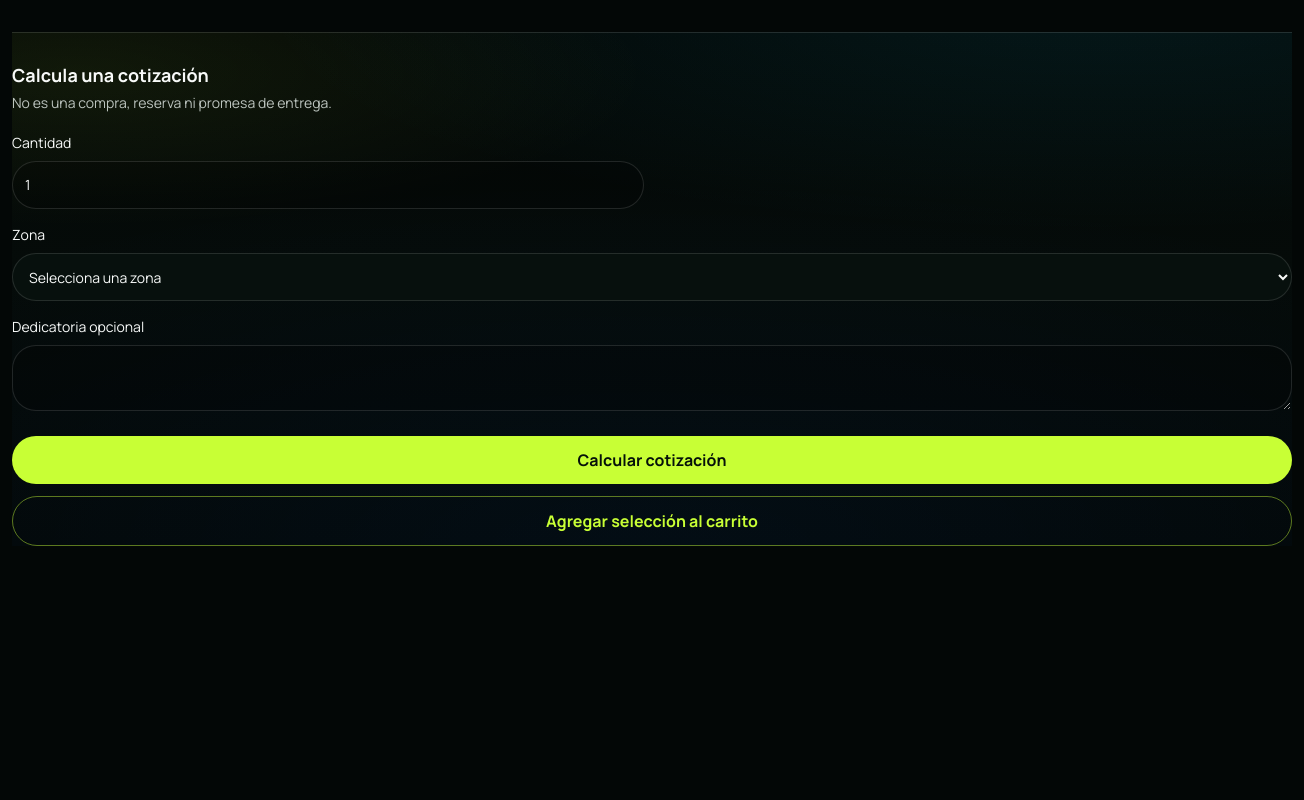
Test: quote calculator › does not present an unavailable quote as validated
This screenshot has width=1304, height=800.
Click the button "Calcular cotización" at (652, 460), box left=12, top=436, right=1292, bottom=484
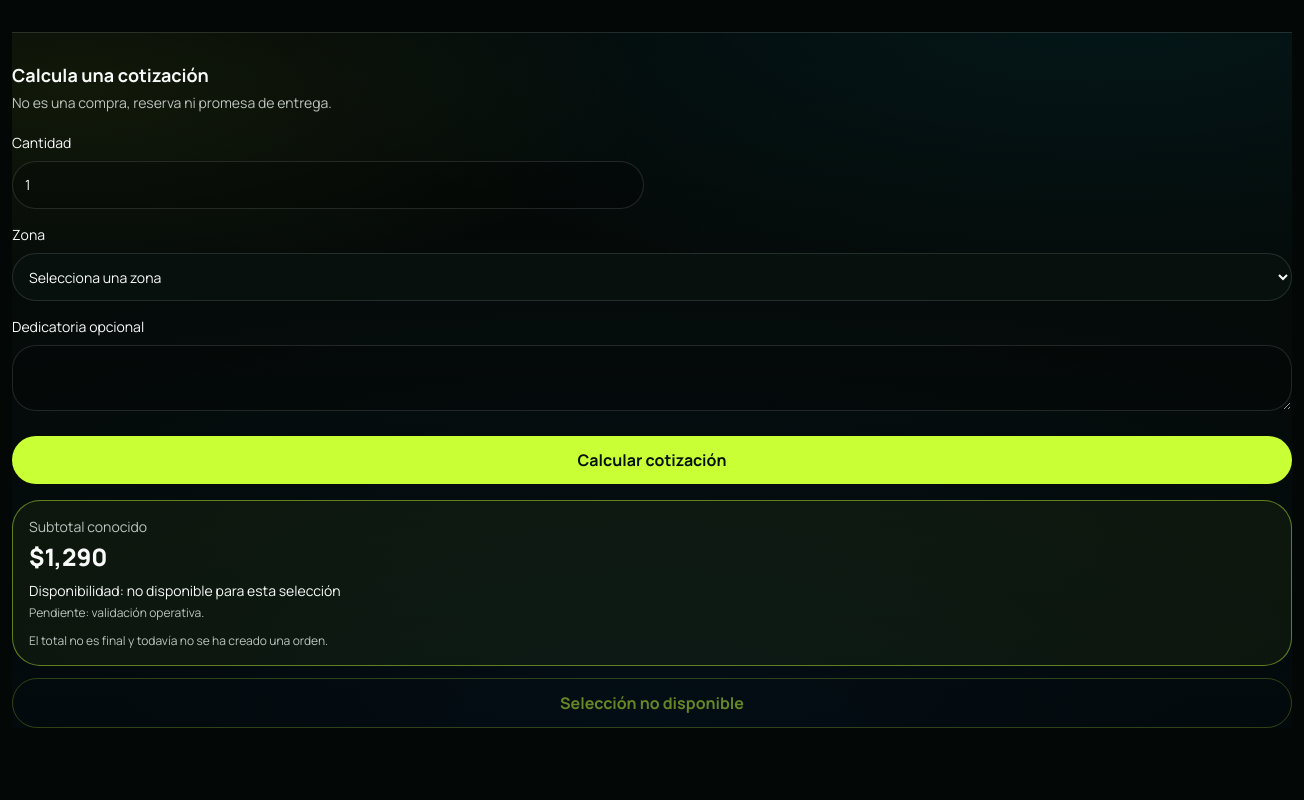
Expected: the text "Disponibilidad: no disponible para esta selección" is shown, left=29, top=581, right=341, bottom=600
Expected: the button "Selección no disponible" is disabled, left=12, top=678, right=1292, bottom=728
Expected: the text "Pendiente: validación operativa." is shown, left=29, top=604, right=204, bottom=621
Replace the text in the number field labelled "Cantidad" with "2" at (328, 185), box left=12, top=161, right=644, bottom=209
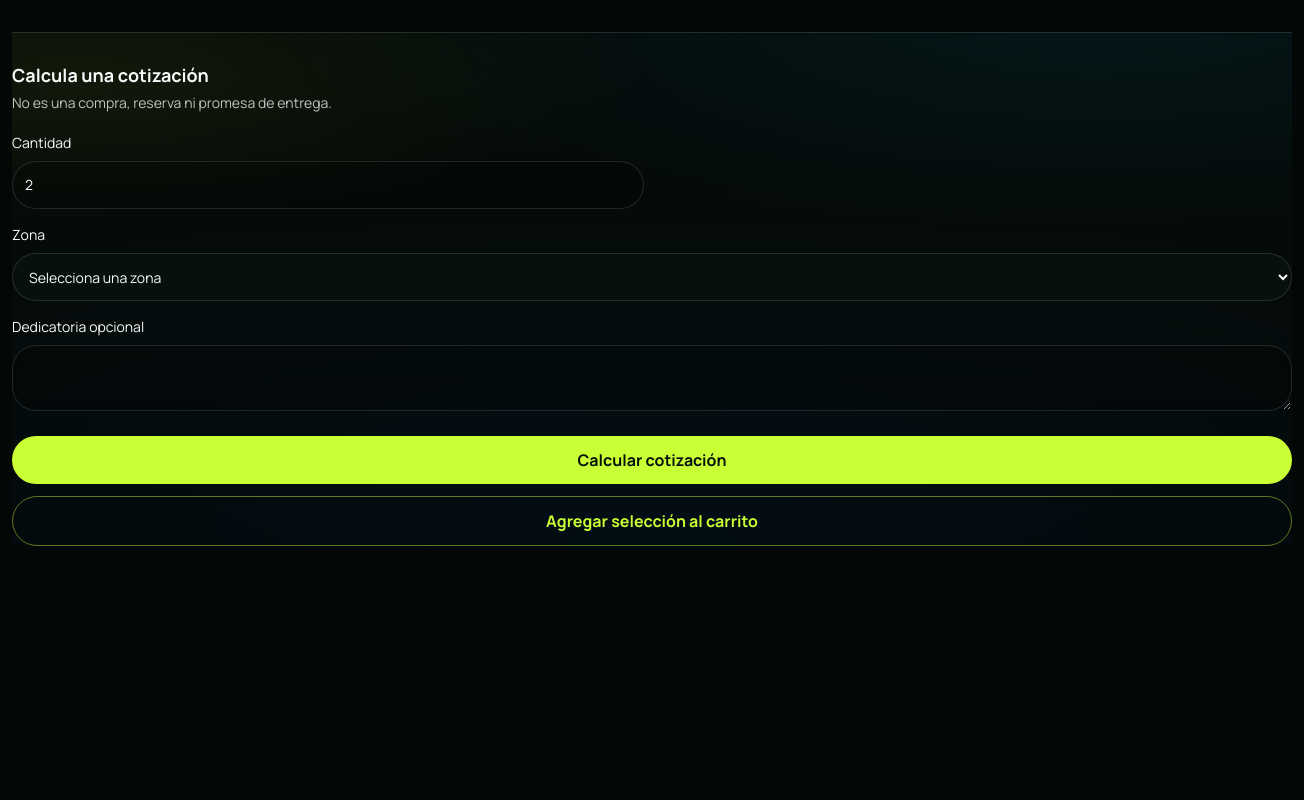
Expected: the text "no disponible para esta selección" is gone
Expected: the button "Agregar selección al carrito" is enabled, left=12, top=496, right=1292, bottom=546
